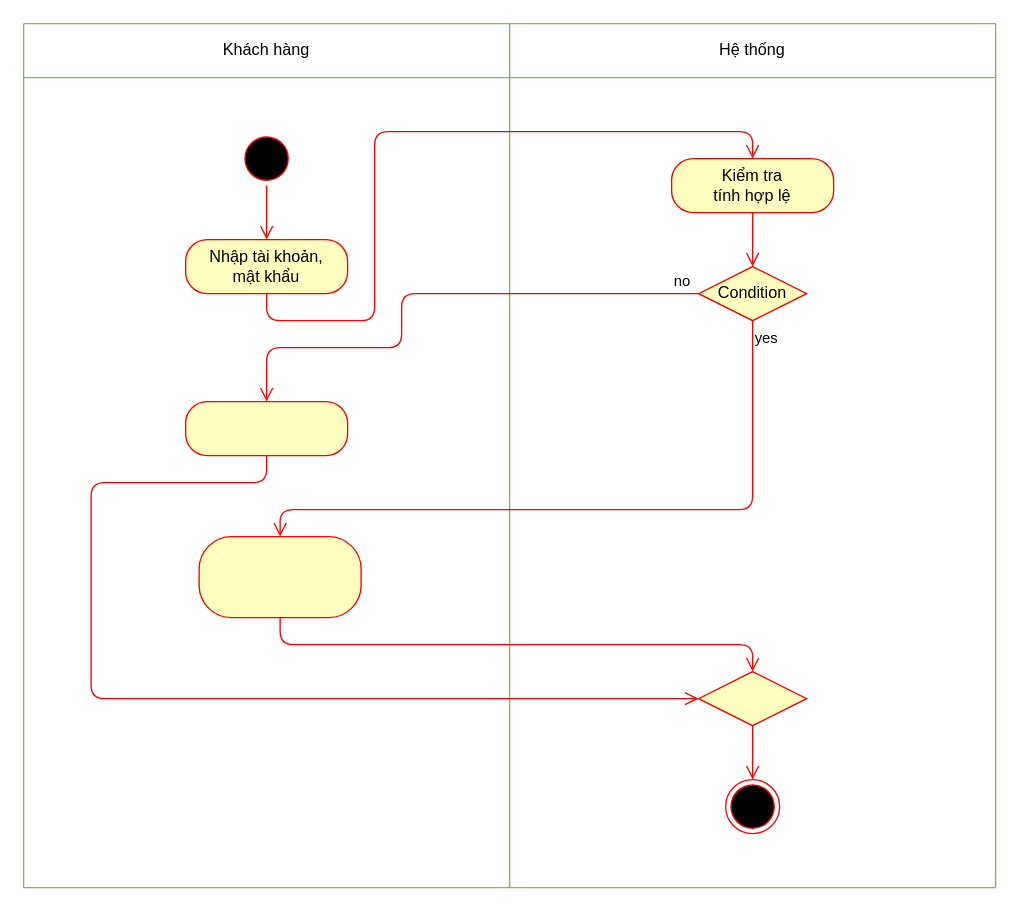
Image size: 1021x913. Some labels were removed from this diagram. Each missing label, with the centre of its shape:
"Thông báo không hợp lệ" belongs at point 266,428.
"Thông báo đăng nhập thành công" belongs at point 279,576.
